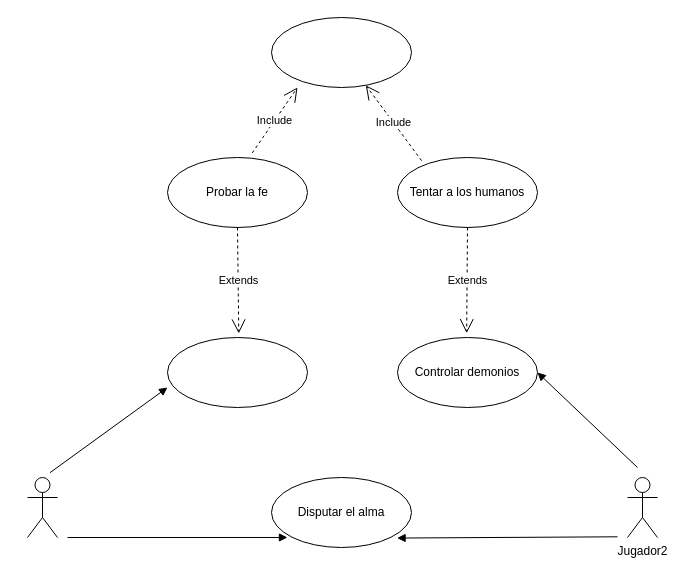
Some shapes in this 685 by 576 pixel diagram are drawn without their labels. Each missing label, with the centre of its shape:
"Controlar angeles" goes at (237,372).
"Jugador1" goes at (42,507).
"Realizar prueba de voluntad" goes at (341,52).
